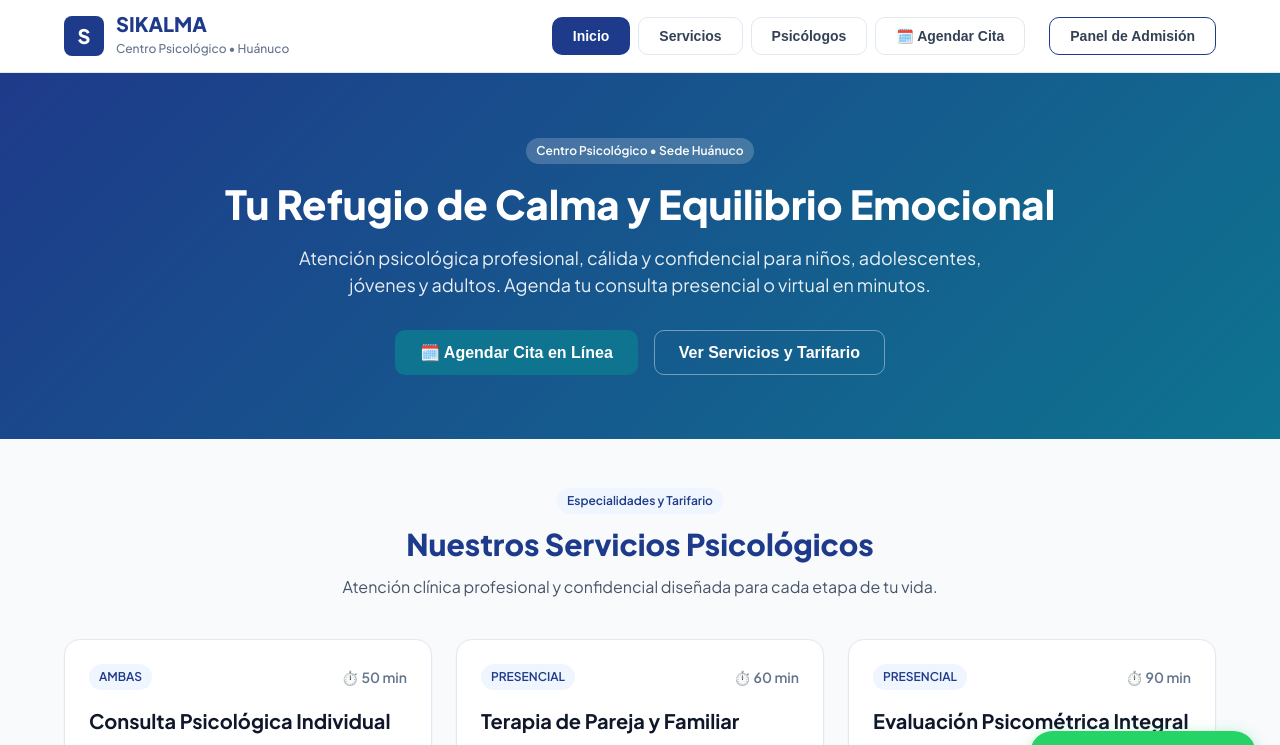
Test: SIKALMA Frontend - Suite de Pruebas Unitarias › permite navegar al formulario de Agendar Cita
Click the button "🗓️ Agendar Cita".
click(950, 36)  # box [875,17,1025,55]
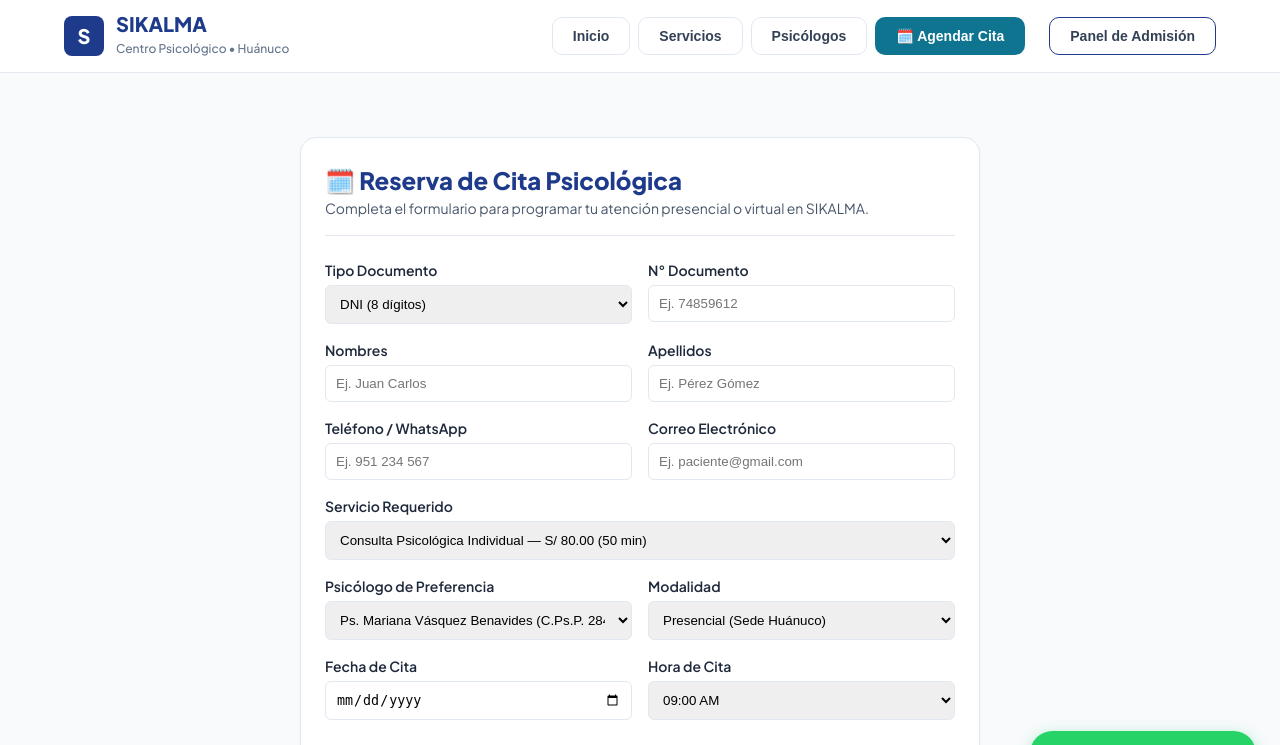
Check: the heading "🗓️ Reserva de Cita Psicológica" is shown, box [325,165,682,195]
